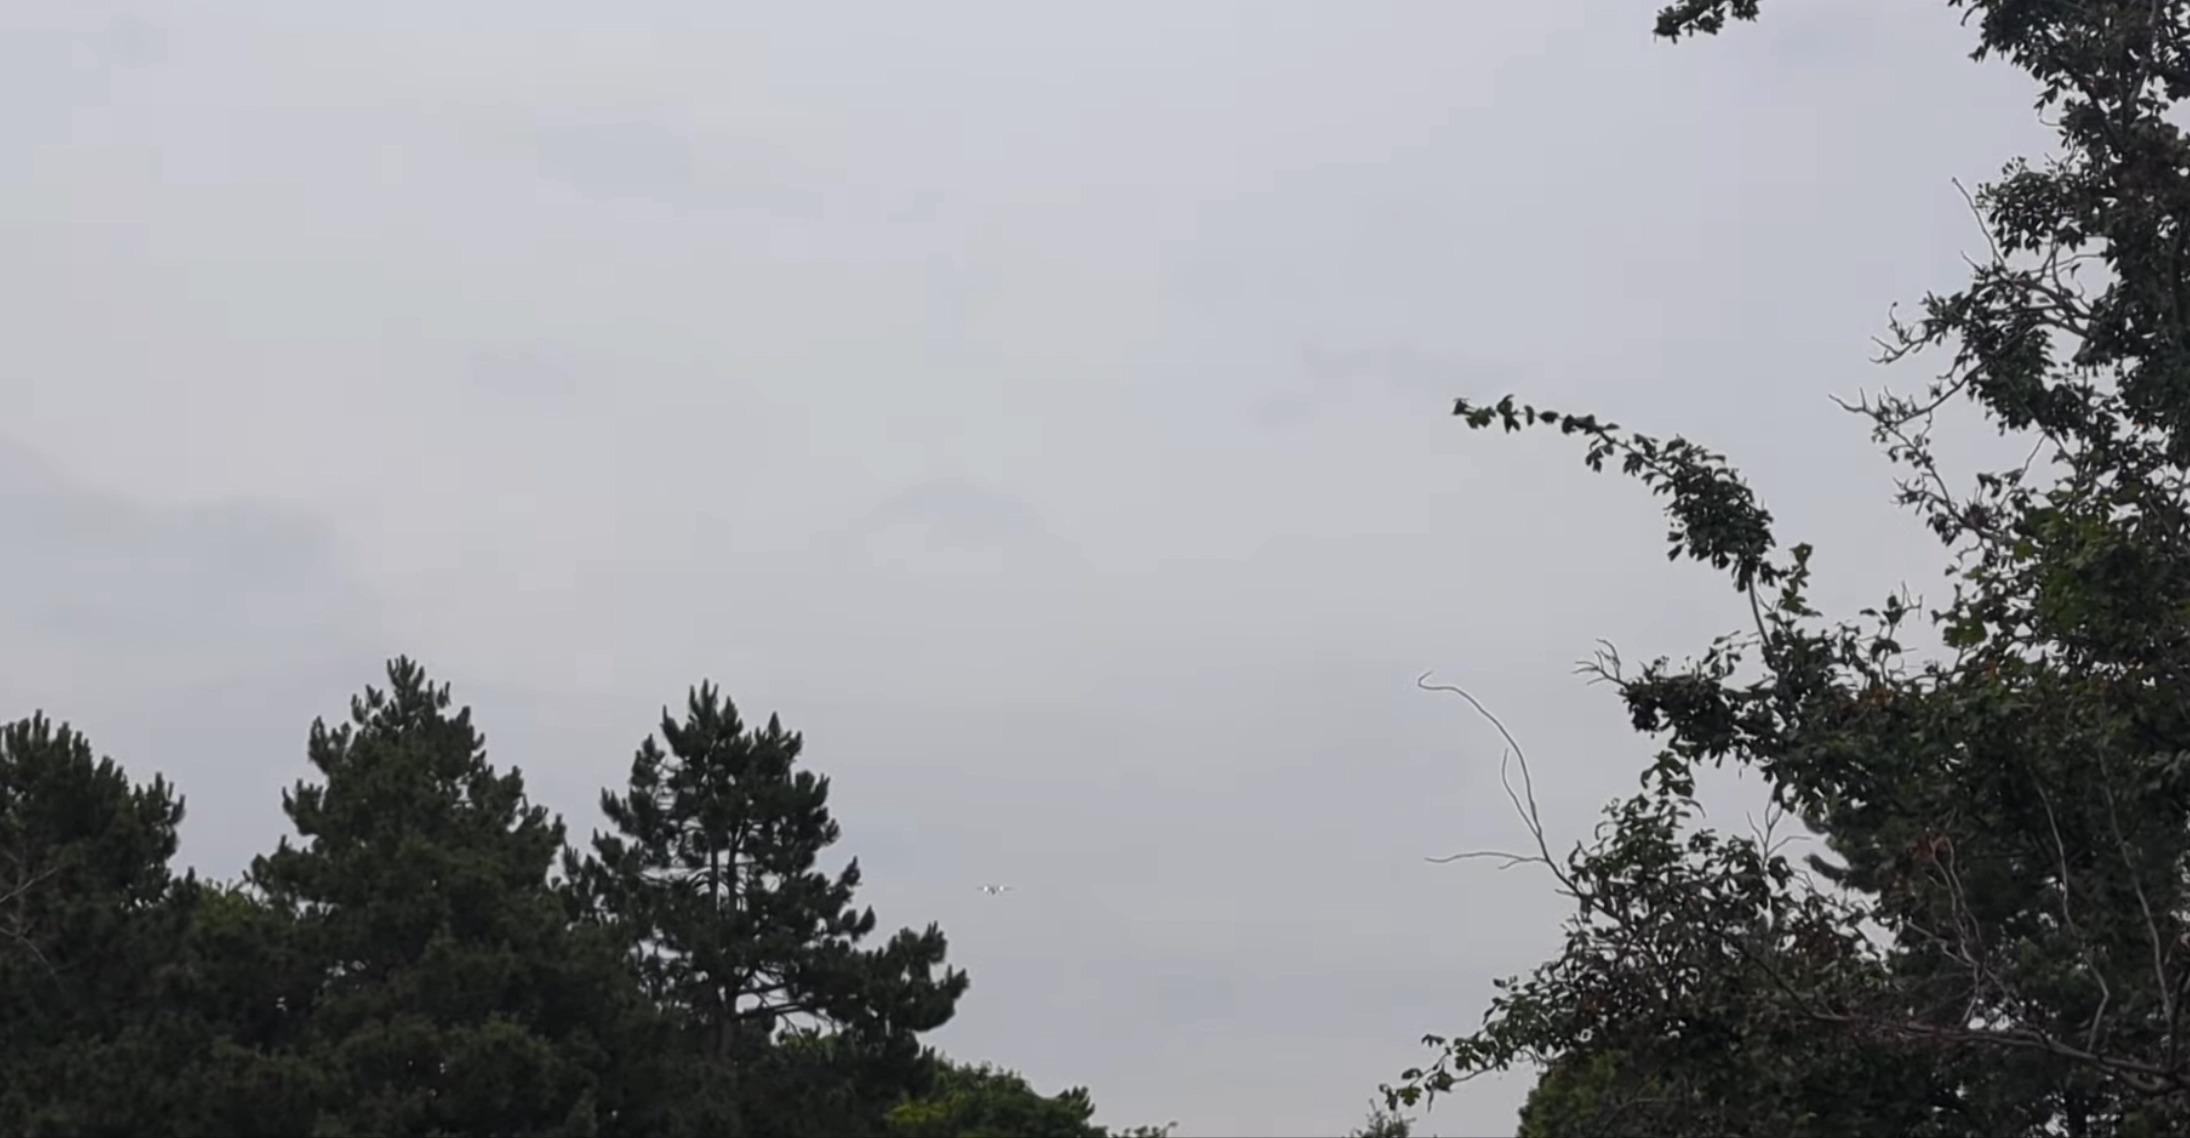Plane: (960, 873, 1034, 905)
